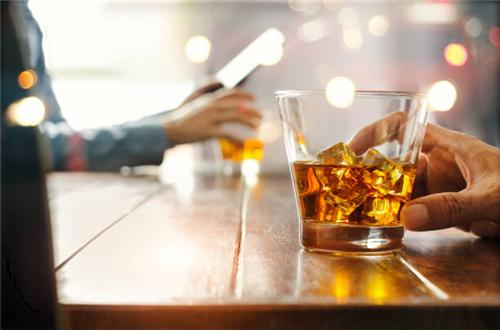alcohol: (277, 87, 430, 256), (217, 99, 273, 167)
